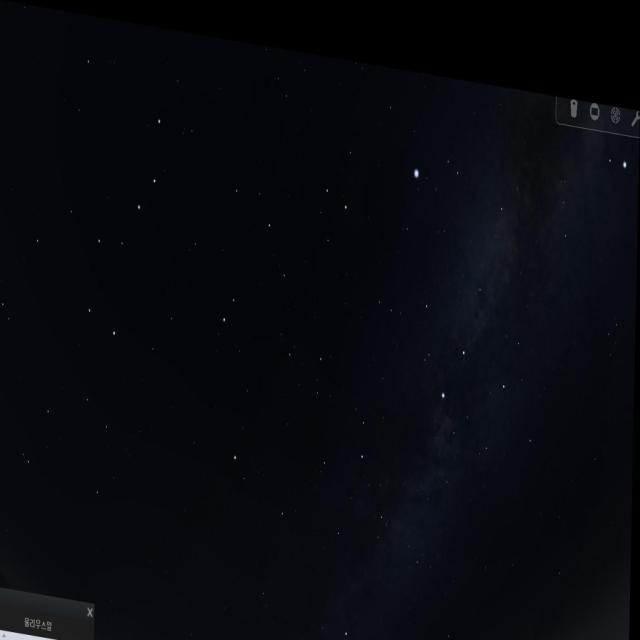cygnus: (406, 175, 519, 402)
lyra: (412, 121, 476, 196)
ursa_major: (81, 89, 173, 346)
